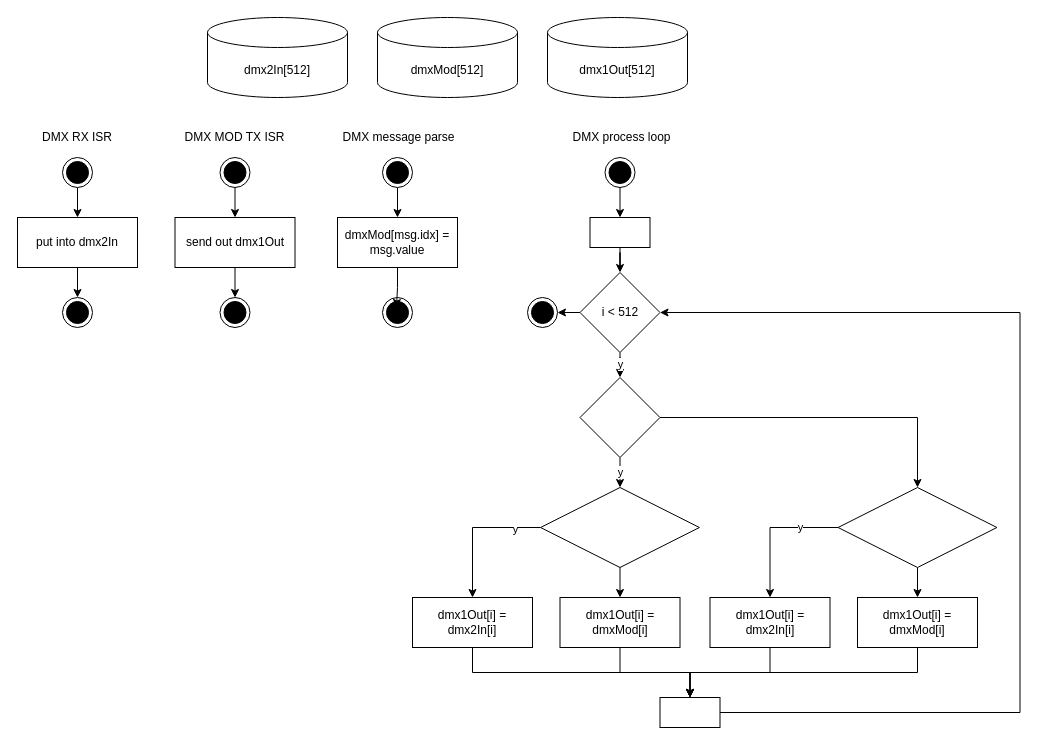
The diagram is 1046 pixels wide and 745 high, and some of its shapes have lost their labels. The shapes that lost their labels are listed below. From the top down, each one's box as (x1, y1, x2, y2) in pixels, then its label:
(589, 216, 650, 248): i = 0
(579, 376, 660, 458): HTP
(540, 486, 699, 568): dmxMod[i] > dmx2In[i]
(837, 486, 997, 568): dmxMod[i] < dmx2In[i]
(659, 696, 720, 728): ++i
